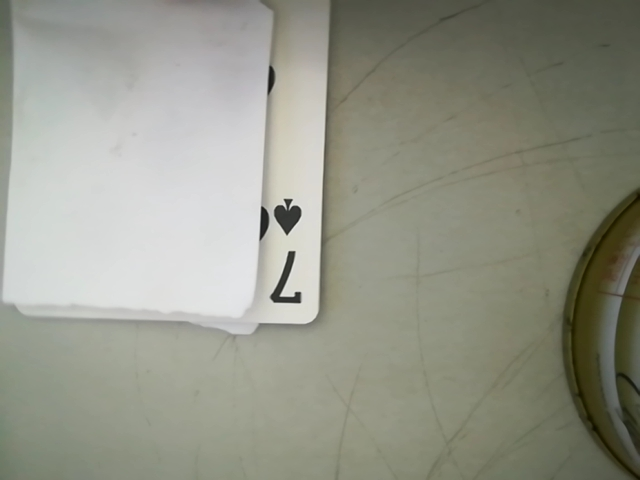ht 7: (247, 184, 316, 318)
